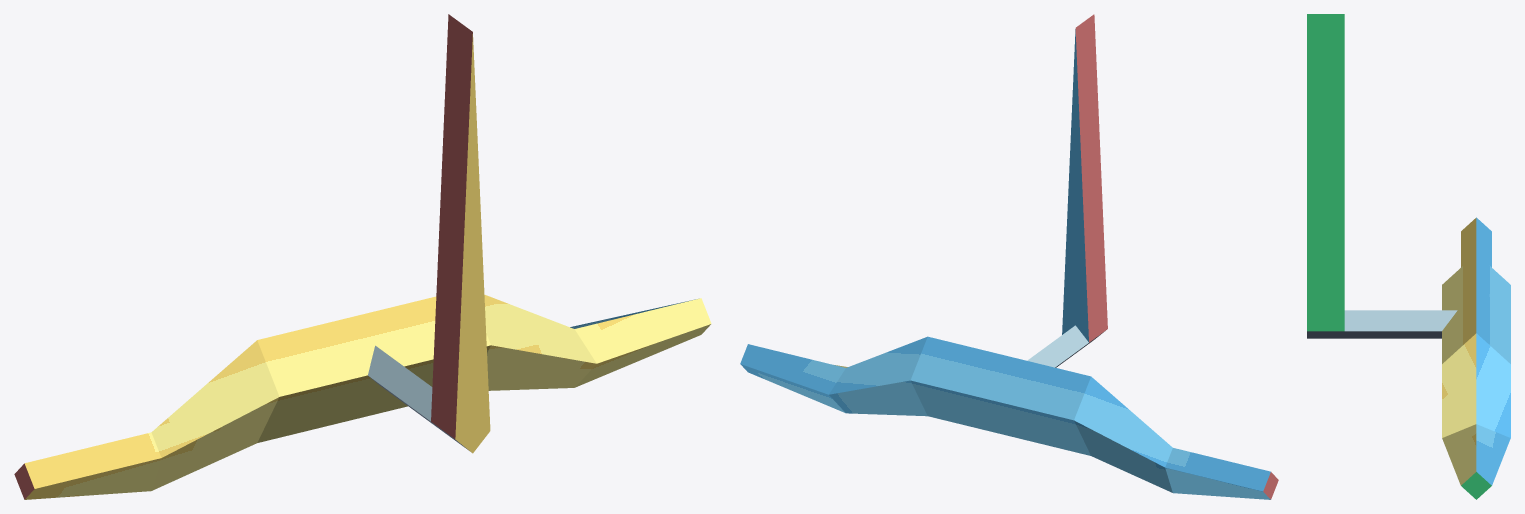
File: scales.obj
3 renders of one model, left to right at view 1: azimuth 30°, elevation 25°; view 2: azimuth 150°, elevation 25°; view 3: azimuth 270°, elevation 25°, orthographic. The views are drawn at different scales.
Parts seen in each view (by area): view 1: elbow, arrow; view 2: elbow, arrow; view 3: arrow, elbow.
Part boxes in pixels (x1=…): elbow: x1=14, y1=294, x2=711, y2=499; arrow: x1=368, y1=14, x2=490, y2=453; elbow: x1=740, y1=336, x2=1278, y2=499; arrow: x1=1027, y1=14, x2=1107, y2=367; arrow: x1=1307, y1=14, x2=1457, y2=338; elbow: x1=1442, y1=217, x2=1510, y2=499.
Size of the model in its own units: 1 by 0.689 by 0.3384.
Materials: 1 (1 with a texture image).
